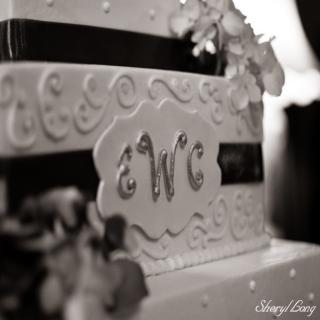Cake: (0, 0, 286, 273)
